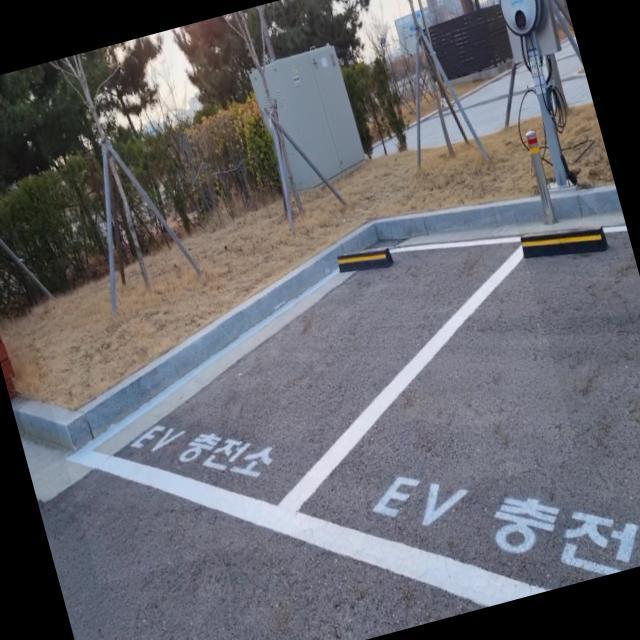empty: (33, 211, 578, 584)
